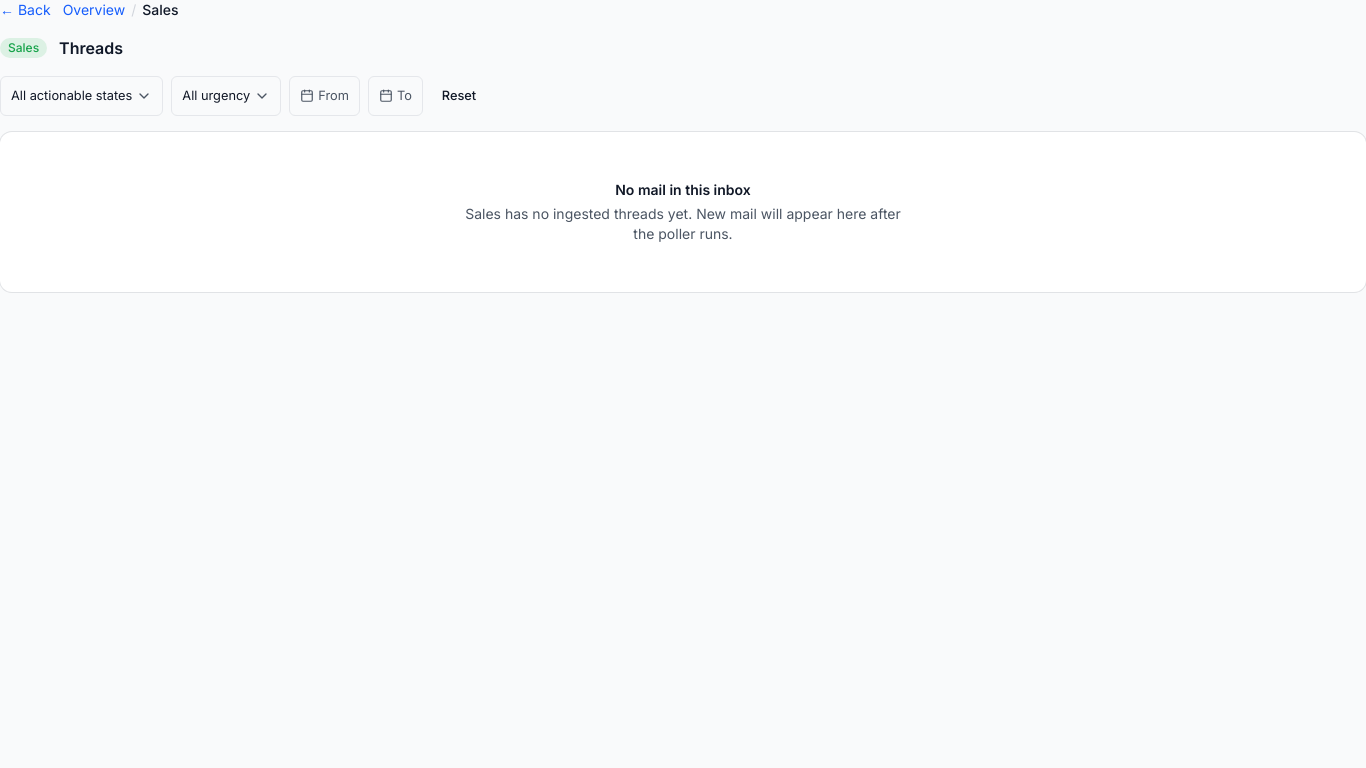
Test: Mailbox page filters › opens the from date calendar popover
Click the button with aria-label "From date" at [325, 96], box [289,76,360,116]
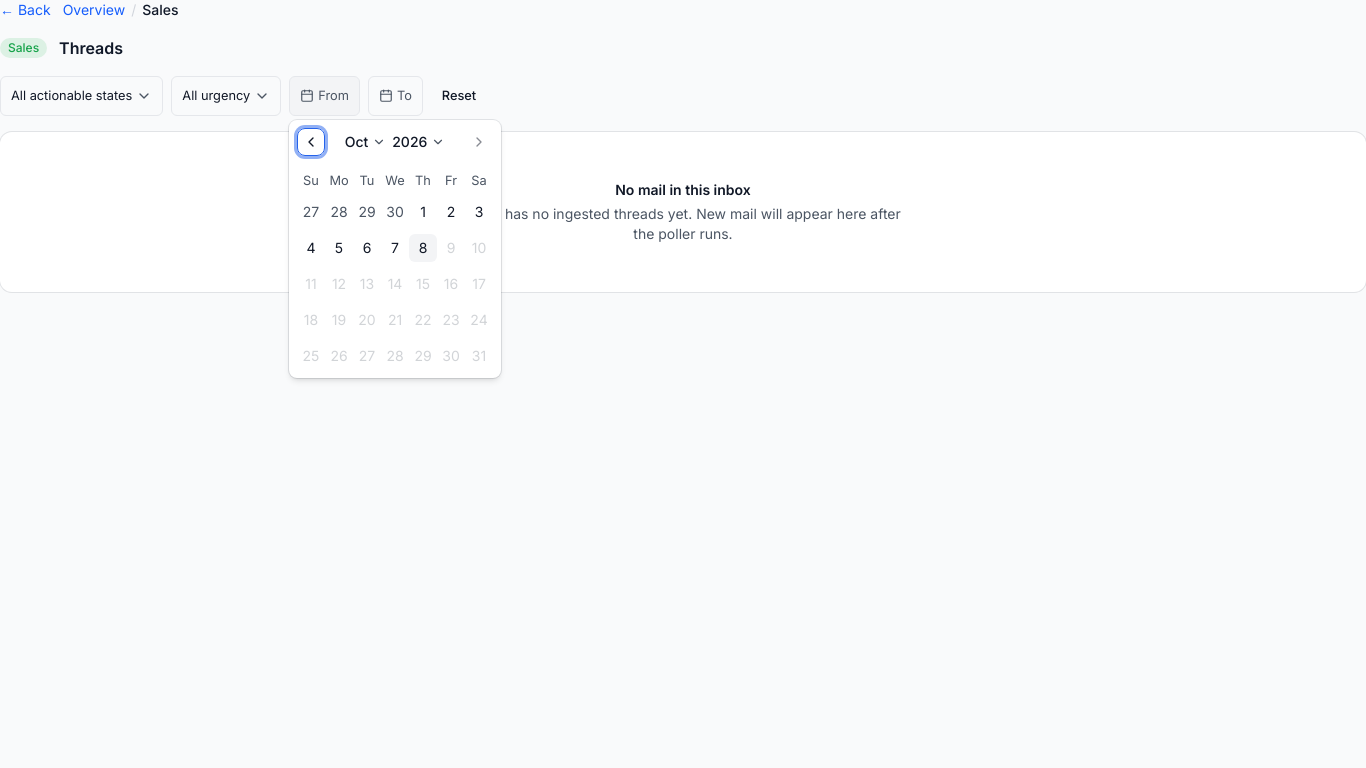
Expected: the table is shown, [297,172,493,370]
